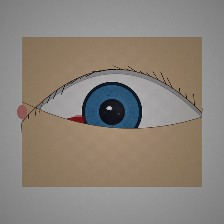hemorrhage_spot: (47, 105, 108, 154)
